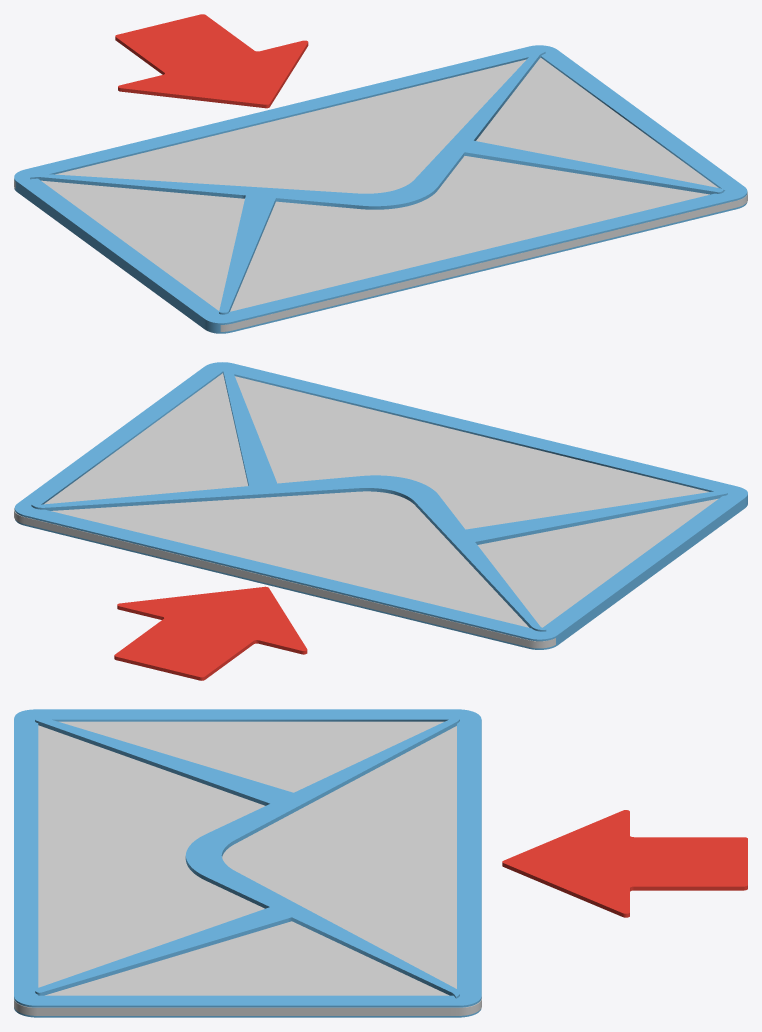
Rendered from emoji_u1f4e9.glb.
3 views of the same model, one above another, from view 1: azimuth 30°, elevation 25°; view 2: azimuth 150°, elevation 25°; view 3: azimuth 270°, elevation 25° (orthographic). The views are drawn at different scales.
Parts seen in each view (by area): view 1: emoji_u1f4e9; view 2: emoji_u1f4e9; view 3: emoji_u1f4e9.
Part boxes in pixels (left/top/right/bottom): emoji_u1f4e9: left=14, top=14, right=747, bottom=333; emoji_u1f4e9: left=14, top=362, right=747, bottom=680; emoji_u1f4e9: left=14, top=709, right=747, bottom=1017.
Bounding box in the file's own units: 0.0324 × 0.0008 × 0.0339.
